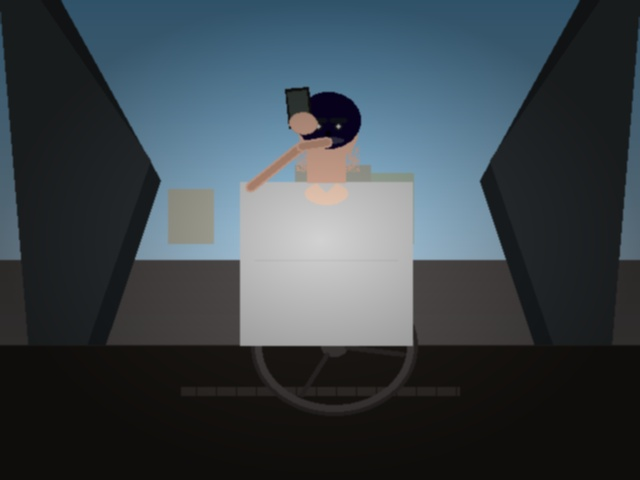phone_usage: (279, 81, 318, 135)
